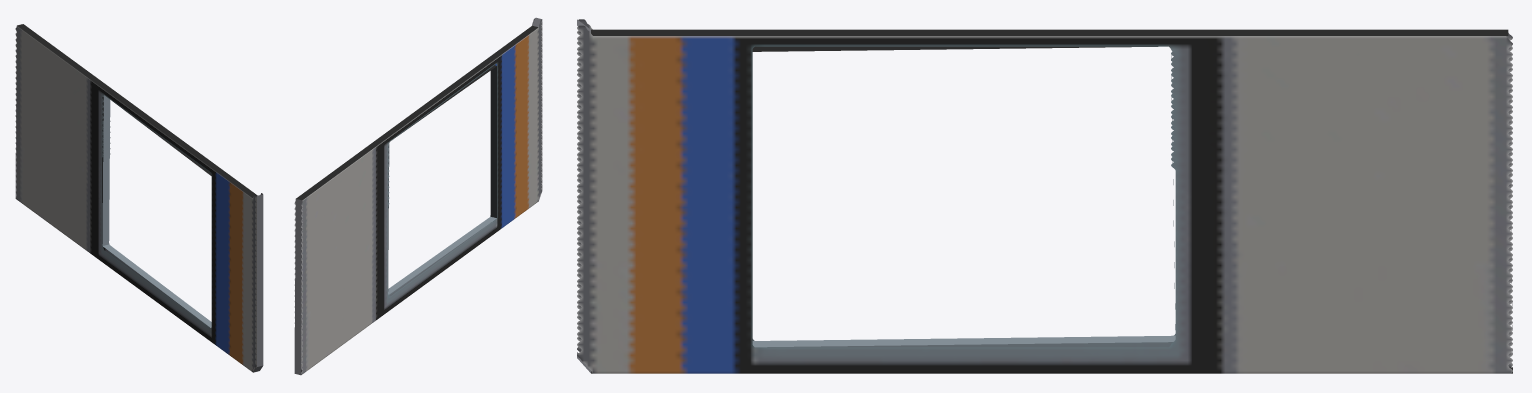
The model's file is pz_native_location_shop_fossoil_01_2_frame.obj.
3 renders of one model, left to right at view 1: azimuth 30°, elevation 25°; view 2: azimuth 150°, elevation 25°; view 3: azimuth 270°, elevation 25°, orthographic. The views are drawn at different scales.
Visible parts, largest first — view 1: pz_native_location_shop_fossoil_01_2_frame; view 2: pz_native_location_shop_fossoil_01_2_frame; view 3: pz_native_location_shop_fossoil_01_2_frame.
Boxes of the visible parts, box(x1,y1,x2,y2) form: pz_native_location_shop_fossoil_01_2_frame: box(15, 24, 263, 372); pz_native_location_shop_fossoil_01_2_frame: box(294, 17, 542, 375); pz_native_location_shop_fossoil_01_2_frame: box(577, 19, 1512, 373).
Size of the model in its own units: 0.04 by 1.06 by 2.54.
1 material, 1 textured.
